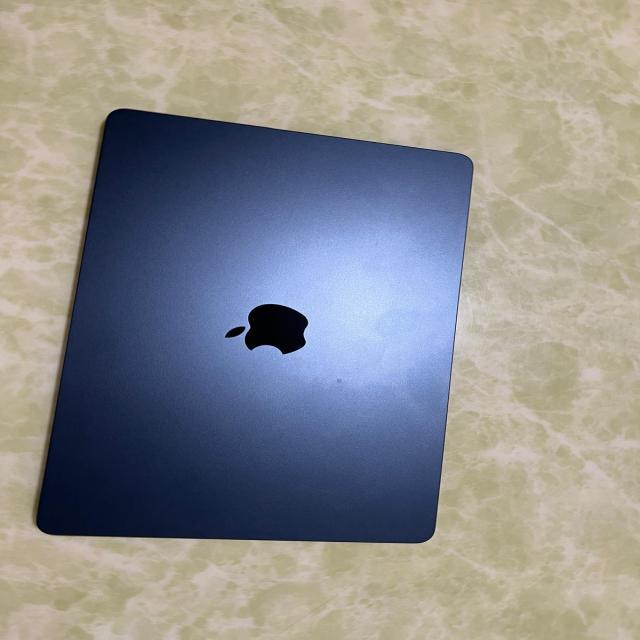laptop: (34, 106, 474, 543)
